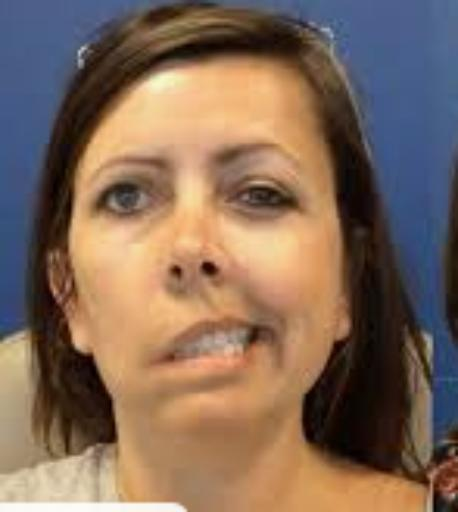left_eye: (228, 186, 297, 216)
left_lip_corner: (246, 321, 284, 350)
right_eye: (98, 182, 167, 219)
right_lip_corner: (156, 348, 185, 373)
